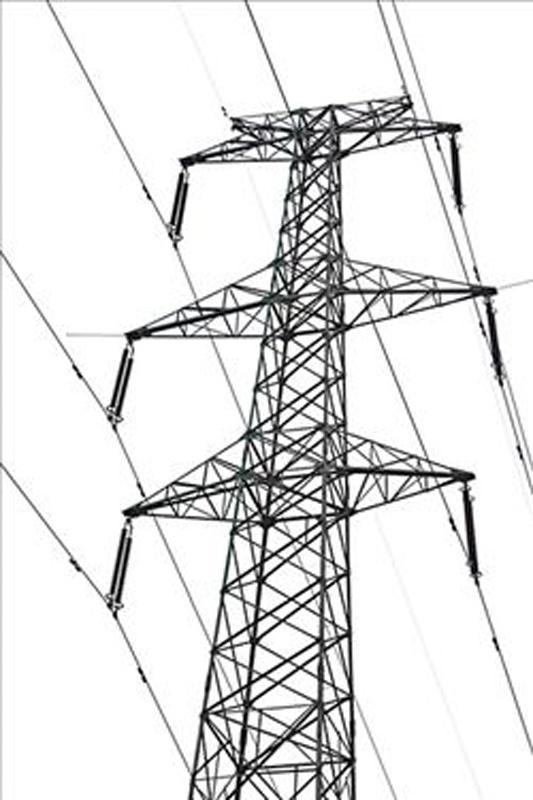power_tower: (105, 92, 504, 800)
